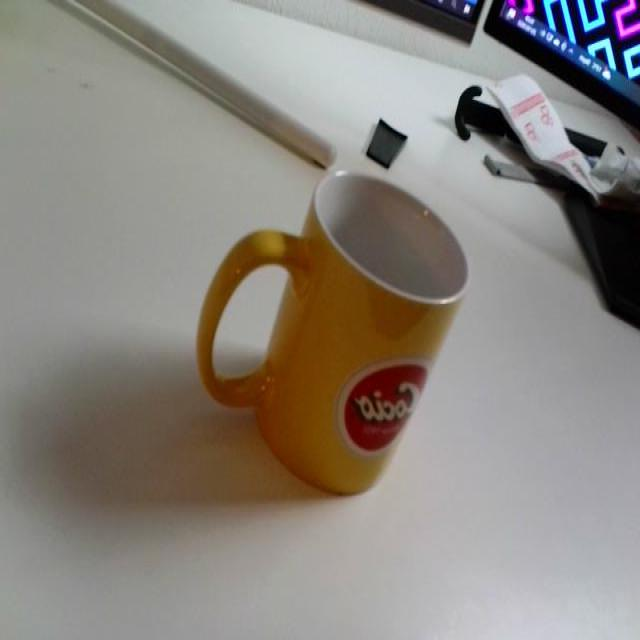cup: (184, 163, 481, 505)
